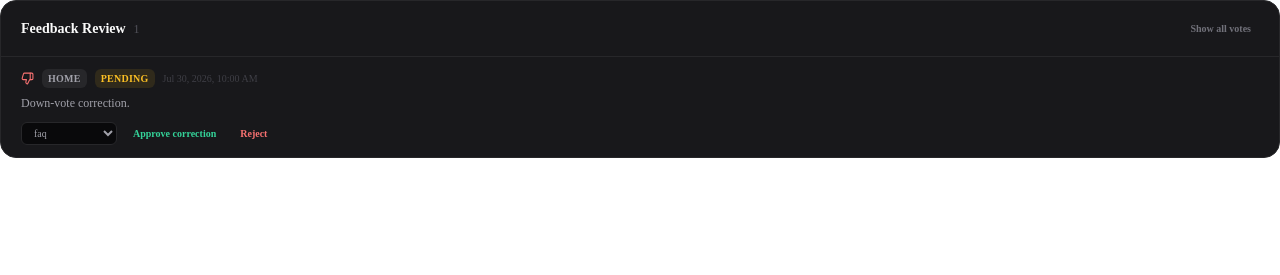
Scenario: FeedbackReviewPanel › shows only negative feedback by default, and reveals up-votes via the toggle
Expected: the text "Down-vote correction." is shown, [21,96,130,110]
Expected: the text "Up-vote note." is not shown
Click the button "Show all votes": (1221,28) [1182,17,1259,40]
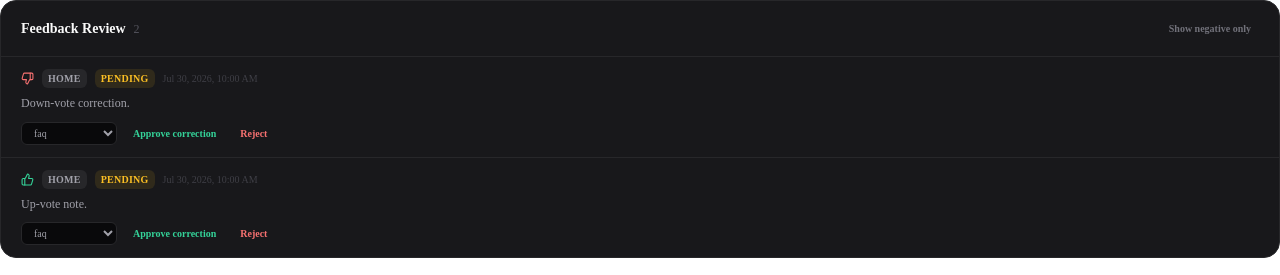
Expected: the text "Up-vote note." is shown, [21,196,87,210]
